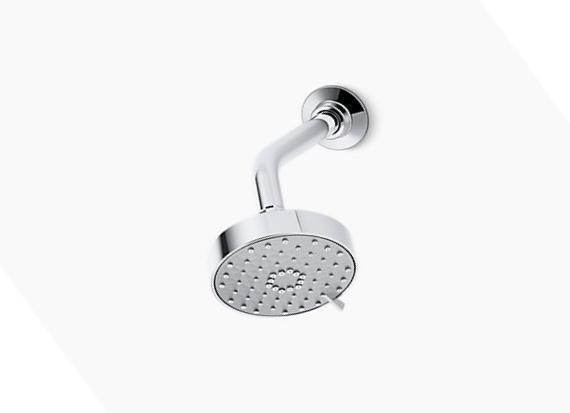Ducha: (189, 62, 395, 325)
